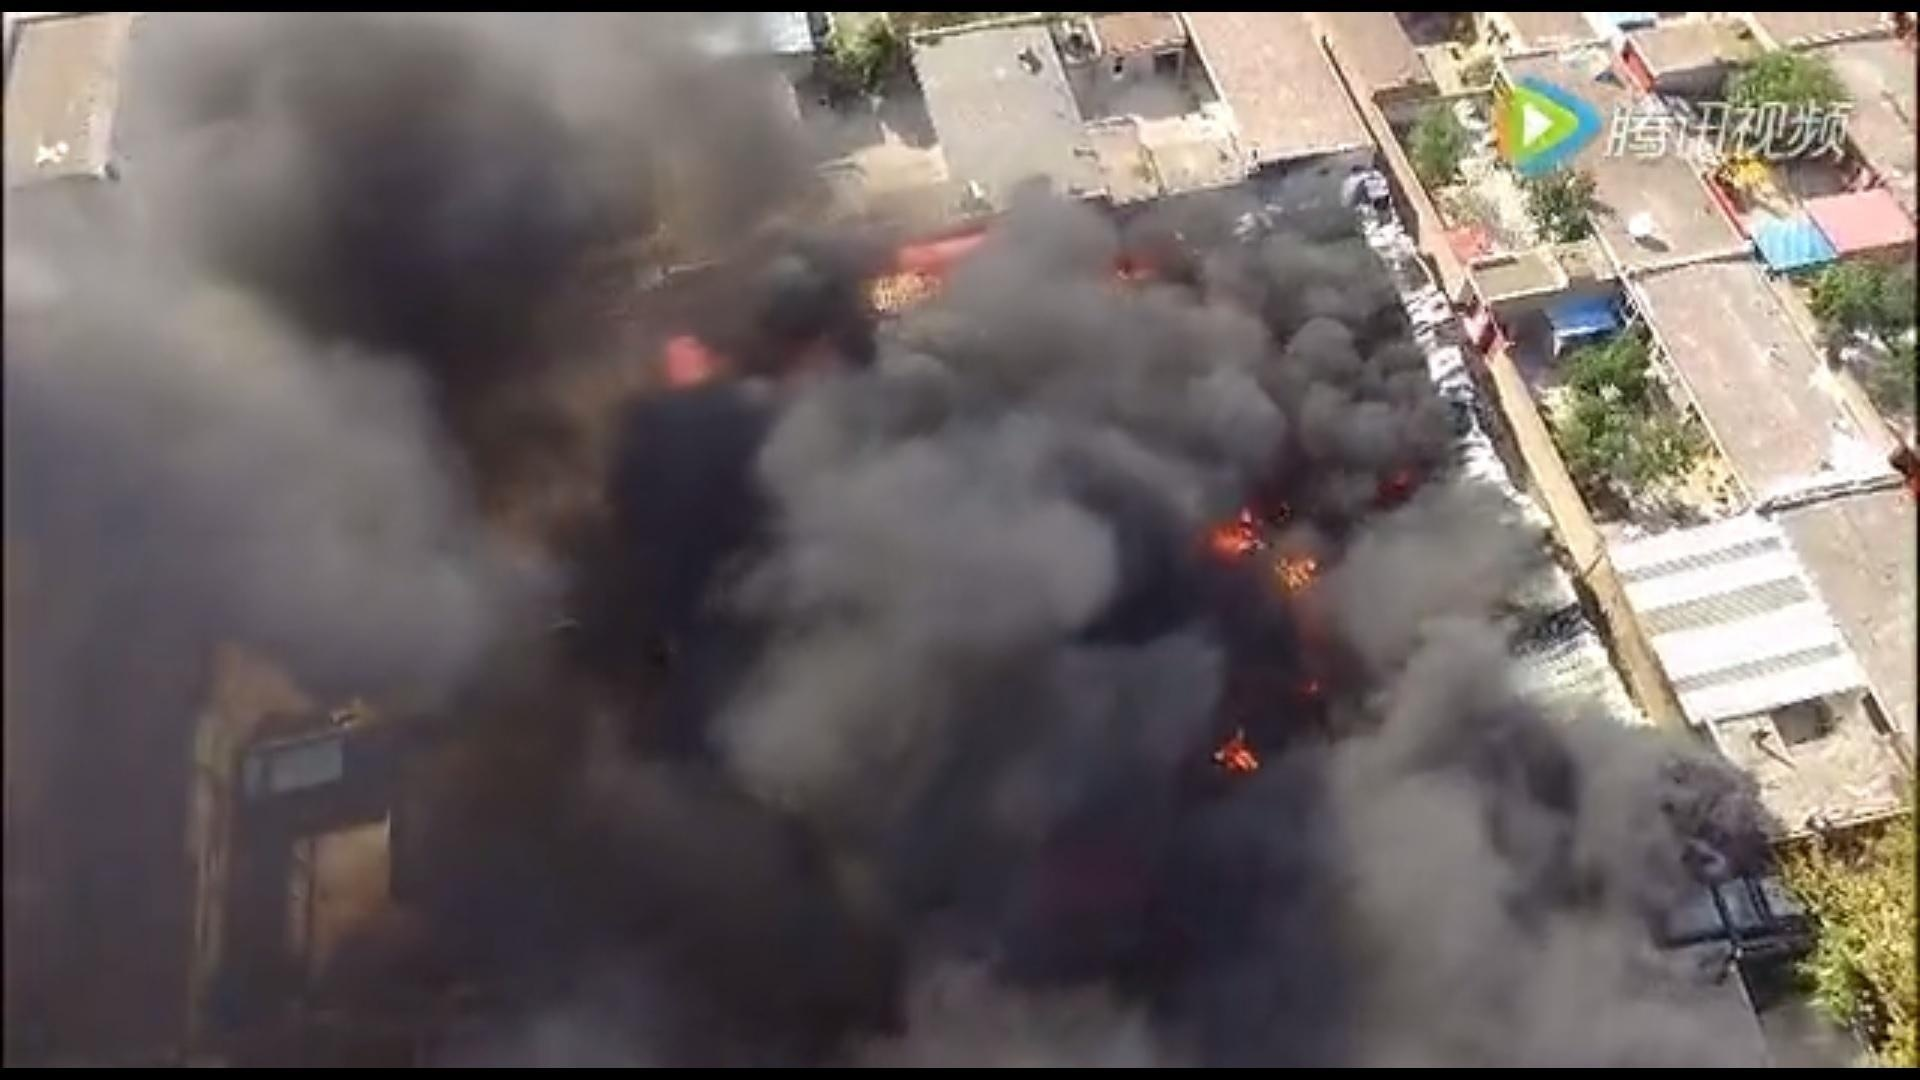fire: (1211, 506, 1321, 589), (1211, 729, 1262, 777)
